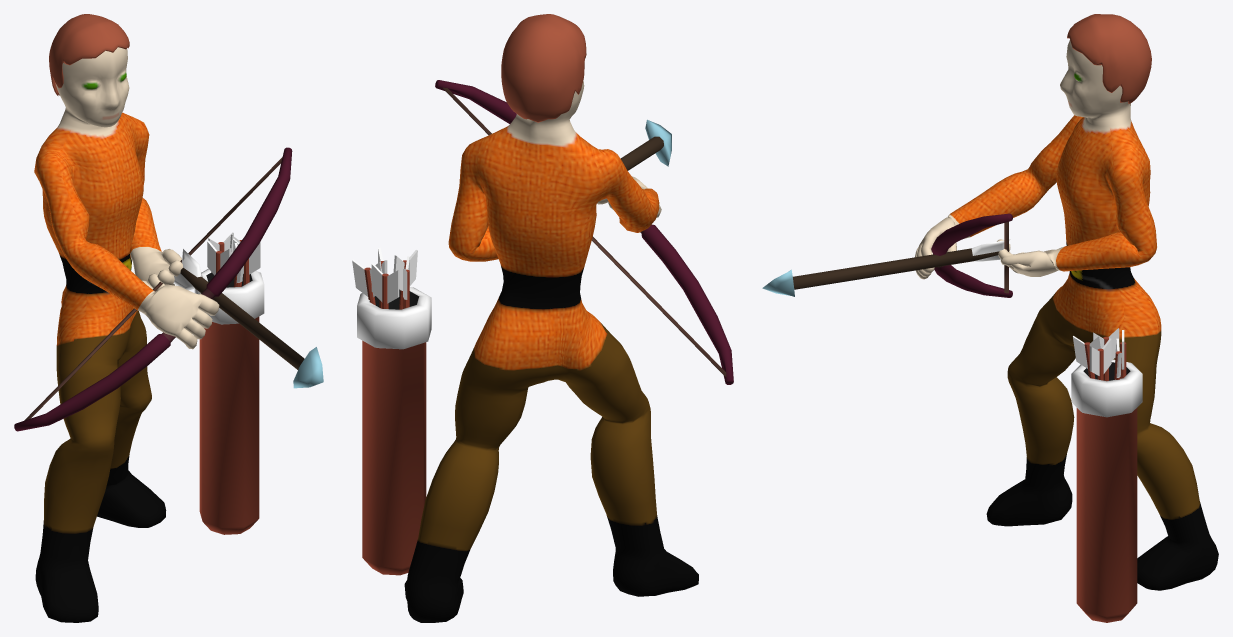
Rendered from Player03Menus.dae.
The picture shows the model from 3 angles, left to right: view 1: azimuth 30°, elevation 25°; view 2: azimuth 150°, elevation 25°; view 3: azimuth 270°, elevation 25°; orthographic projection. The views are drawn at different scales.
Visible parts, largest first — view 1: Player03ForMenus; view 2: Player03ForMenus; view 3: Player03ForMenus.
Boxes of the visible parts, x1,y1,x2,y2 form: Player03ForMenus: (14,14,323,622); Player03ForMenus: (352,14,733,622); Player03ForMenus: (762,14,1218,622).
Bounding box in the file's own units: 1.1 × 1.5 × 1.94.
Materials: 11 (1 with a texture image).
